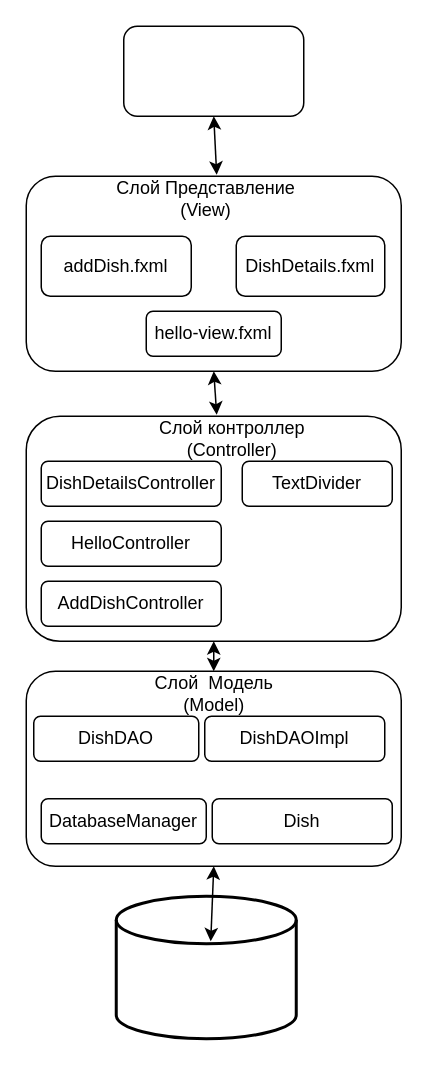
The diagram is 428 pixels wide and 1067 high, and some of its shapes have lost their labels. Here are the shapes that lost their labels. From the top down, the centre of each, then its label:
pixel 213 70: Пользователь
pixel 205 967: Данные
